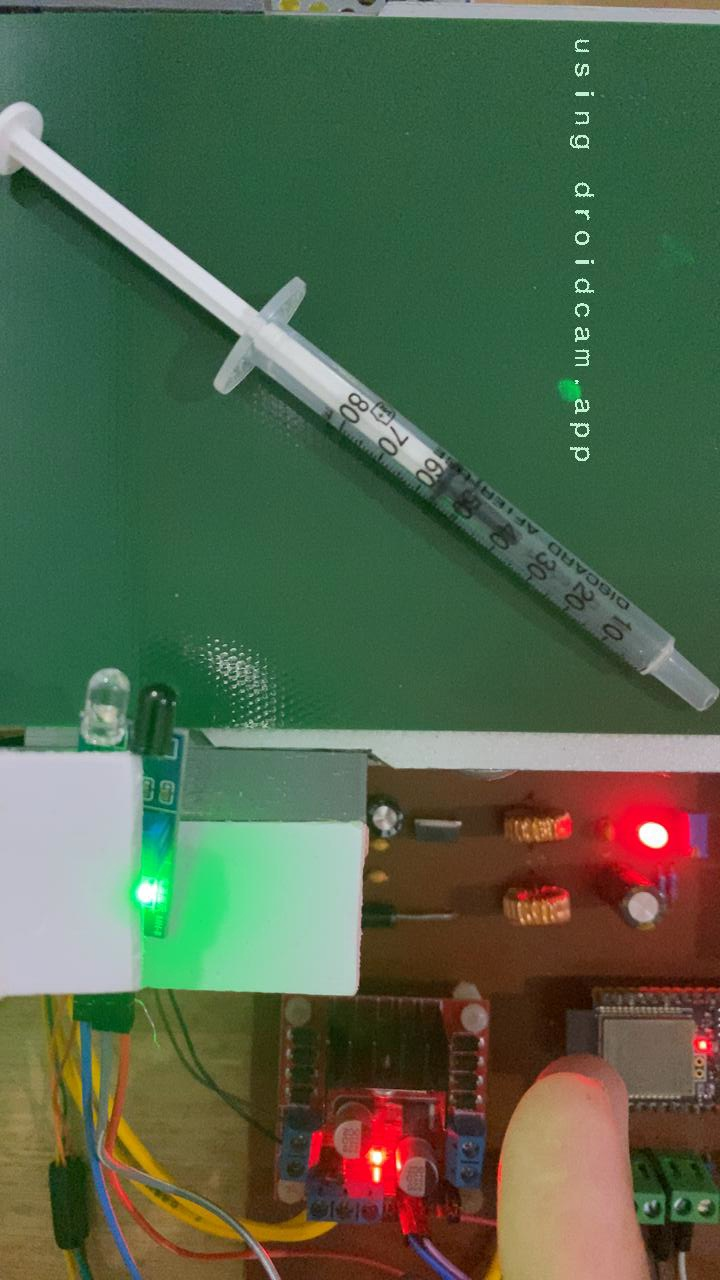syringe: (0, 95, 458, 493)
